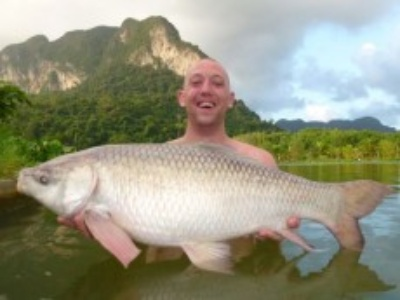rohu: (14, 141, 384, 274)
